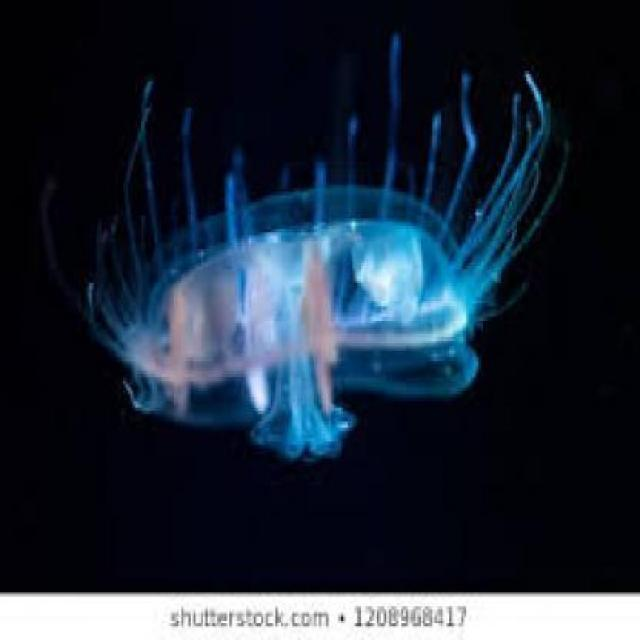Jellyfish: (48, 26, 568, 462)
